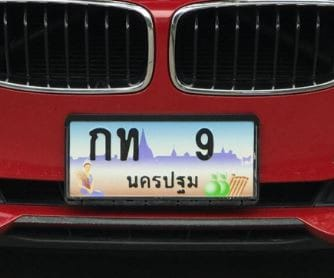Non-Bangkok: (121, 164, 201, 194)
